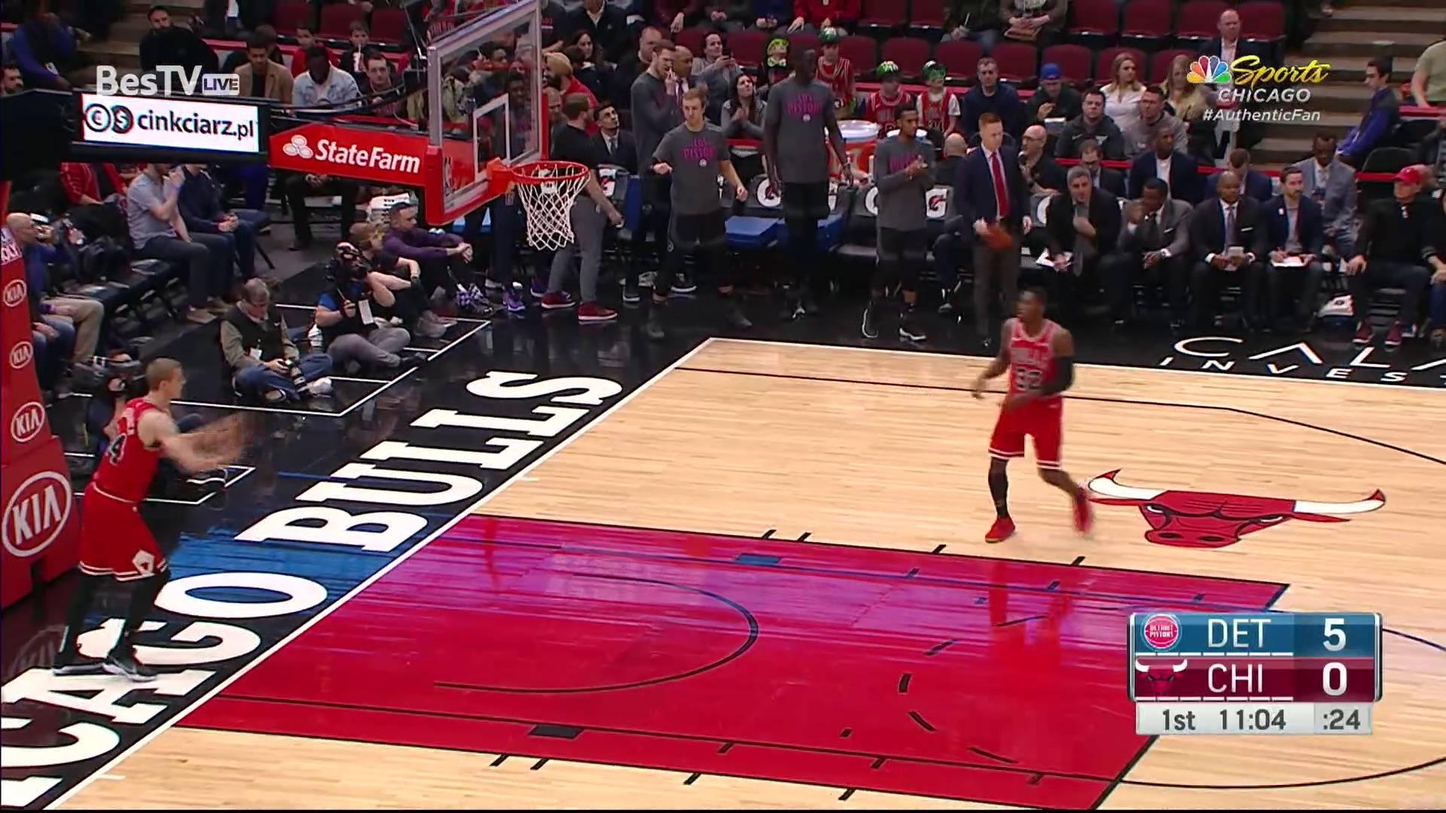basketball: (206, 416, 262, 464)
